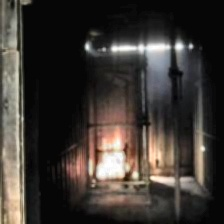fire: (91, 129, 128, 183)
